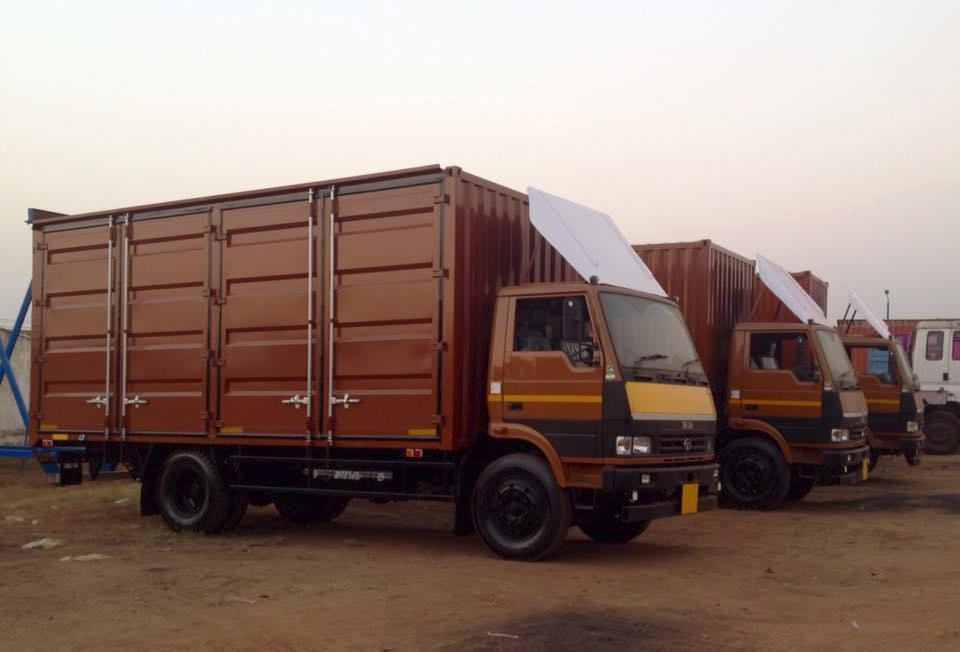truck: (21, 182, 822, 519)
